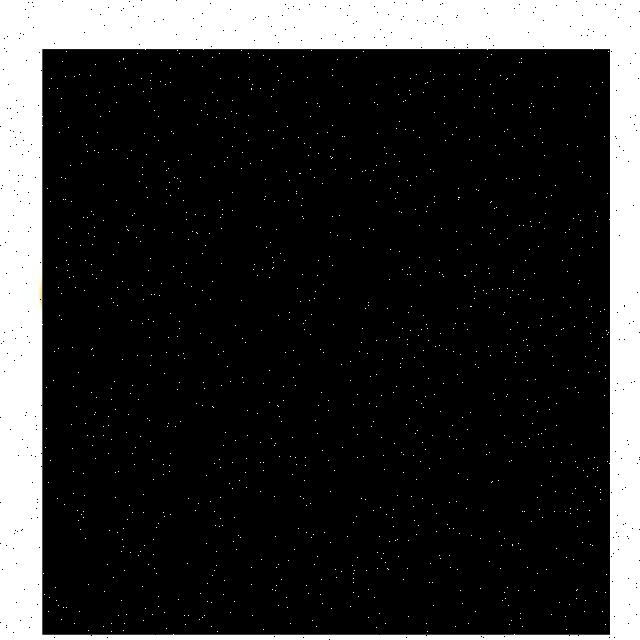Lemon: (42, 51, 610, 636)
